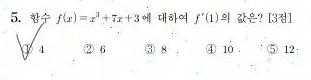choice: (17, 38, 33, 61)
not-choice: (265, 42, 279, 56), (142, 42, 156, 55), (204, 42, 218, 55), (82, 42, 95, 55)
